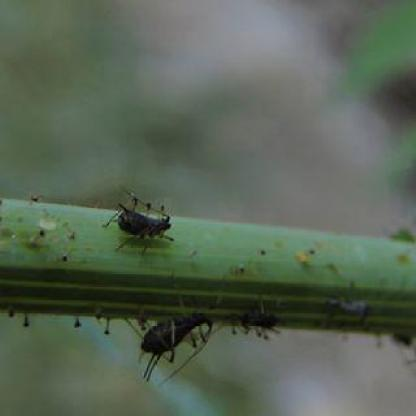aphid: (129, 302, 220, 386), (101, 183, 184, 255), (324, 283, 381, 329), (233, 300, 287, 347)
